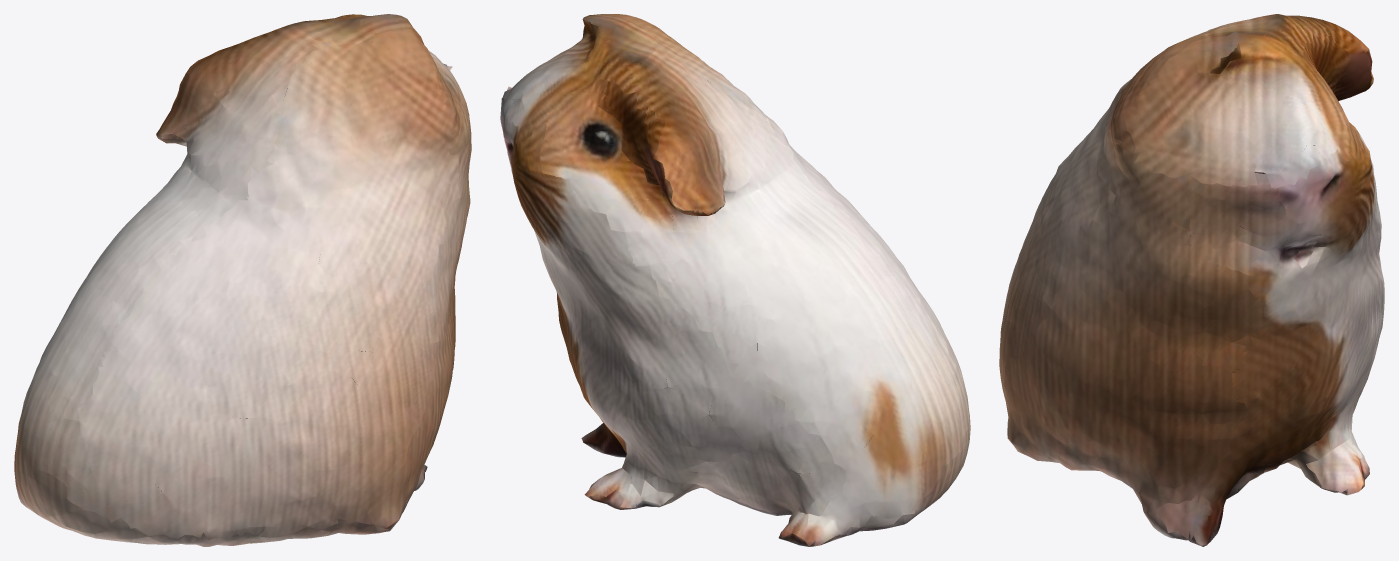
File: 13_59_44_21_a-single-guinea-pig-figurine.glb
The picture shows the model from 3 angles, left to right: view 1: azimuth 30°, elevation 25°; view 2: azimuth 150°, elevation 25°; view 3: azimuth 270°, elevation 25°; orthographic projection. The views are drawn at different scales.
Visible parts, largest first — view 1: world; view 2: world; view 3: world.
Boxes of the visible parts, box(x1,y1,x2,y2) form: world: box(14, 14, 471, 546); world: box(500, 14, 970, 546); world: box(999, 14, 1384, 546).
Size of the model in its own units: 0.7448 by 0.7296 by 0.5169.
Materials: 1 (1 with a texture image).
